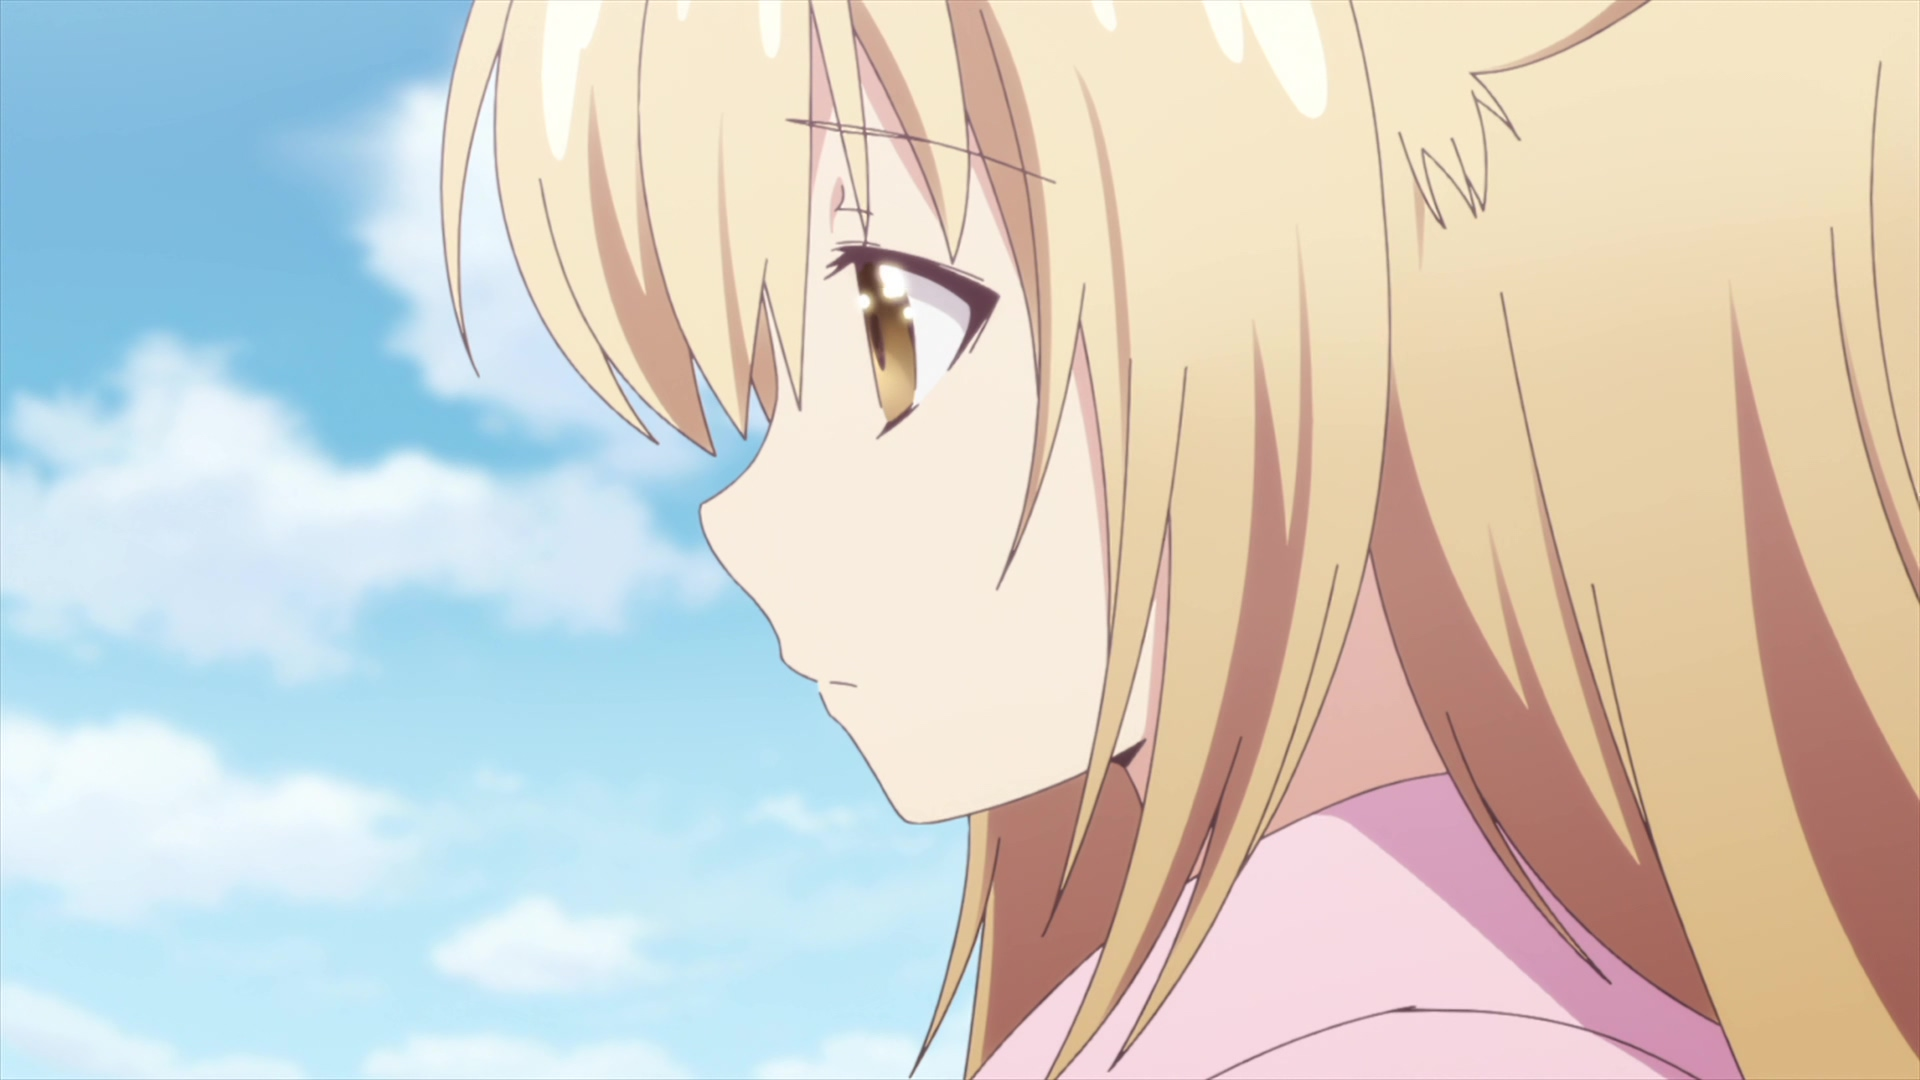柚: (436, 1, 1920, 1080)
